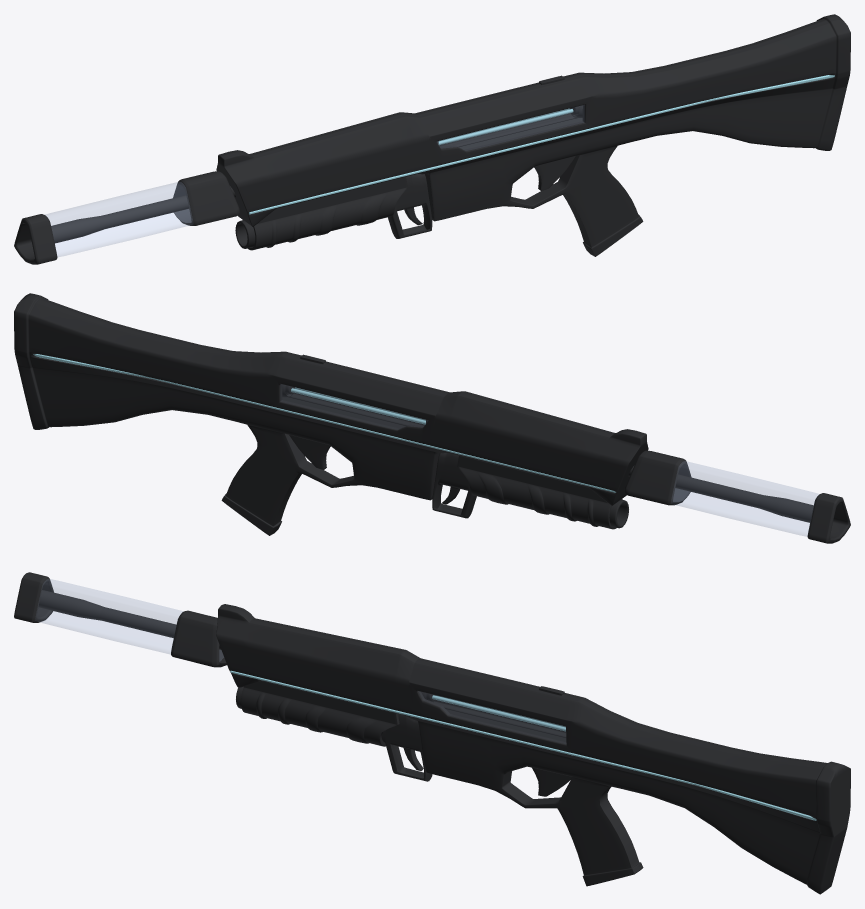
Rendered from GUN.fbx.
3 views of the same model, one above another, from view 1: azimuth 30°, elevation 25°; view 2: azimuth 150°, elevation 25°; view 3: azimuth 330°, elevation 25° (orthographic).
Parts seen in each view (by area): view 1: gun3; view 2: gun3; view 3: gun3.
Boxes of the visible parts, box(x1,y1,x2,y2) form: gun3: box(14, 14, 850, 264); gun3: box(14, 293, 850, 543); gun3: box(14, 572, 850, 894).
Size of the model in its own units: 62.86 by 13.89 by 3.35.
